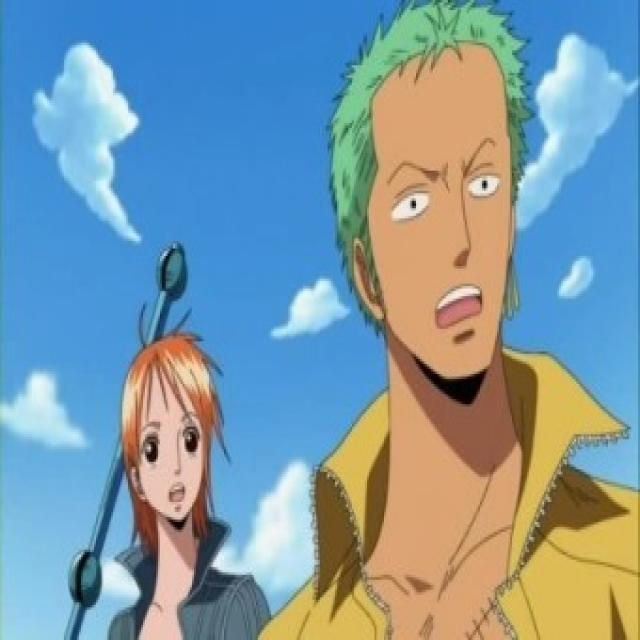Nami: (97, 303, 274, 550)
Zoro: (326, 10, 526, 407)
